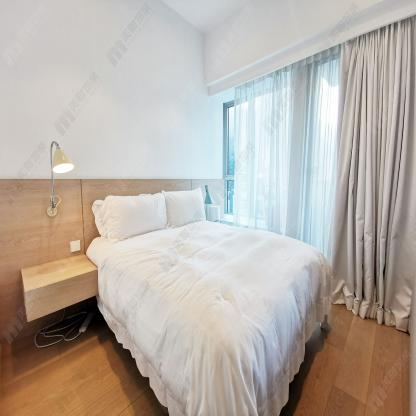Bed: (84, 170, 344, 416)
